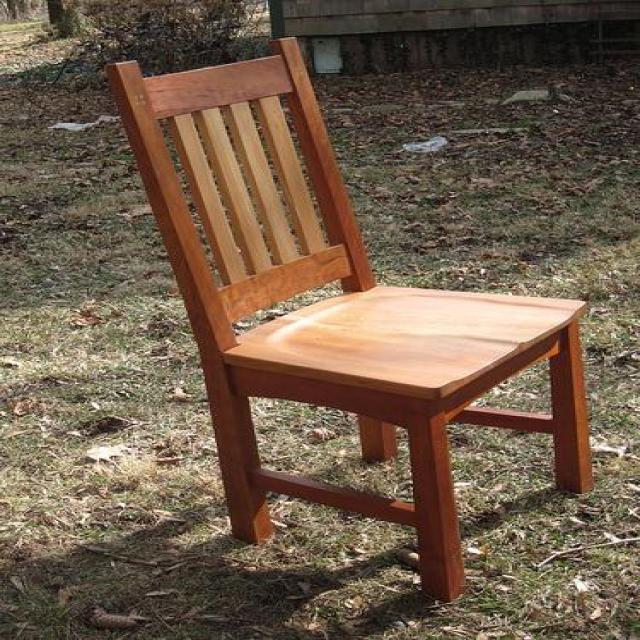chair: (104, 34, 596, 603)
